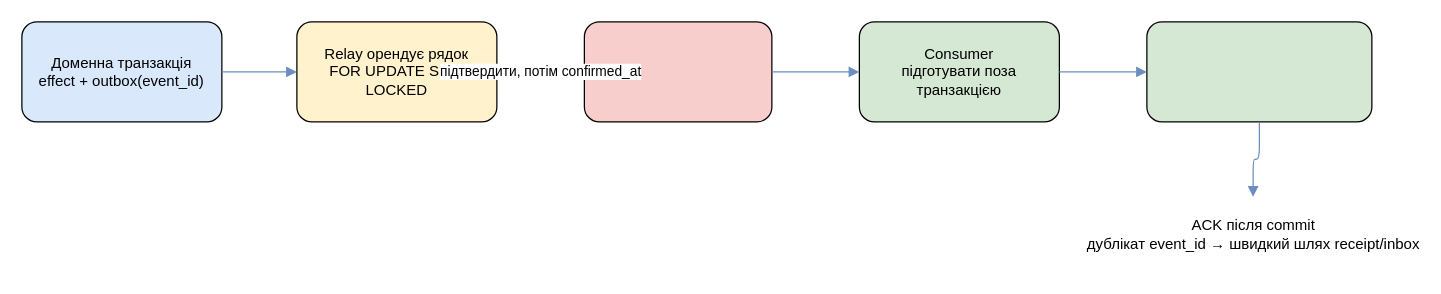
Image size: 1441x294. Some labels were removed from this diagram. The centre of each missing label's shape, as x and y in pixels:
Broker постійна доставка + mandatory підтвердження публікації: [677,71]
Commit: повторна перевірка inbox + effect + receipt + next outbox: [1259,71]
